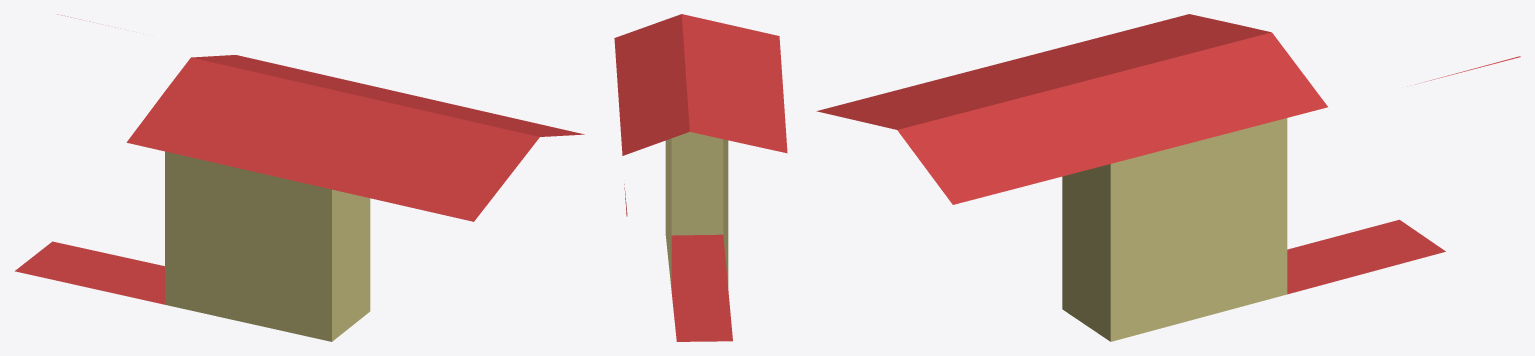
The picture shows the model from 3 angles, left to right: view 1: azimuth 30°, elevation 25°; view 2: azimuth 150°, elevation 25°; view 3: azimuth 270°, elevation 25°; orthographic projection. The views are drawn at different scales.
Bounding box in the file's own units: 12.44 × 18.49 × 7.29.
